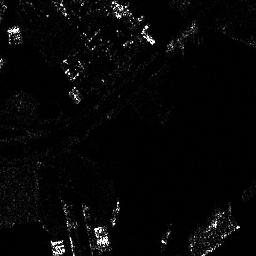ship: (164, 20, 199, 53)
